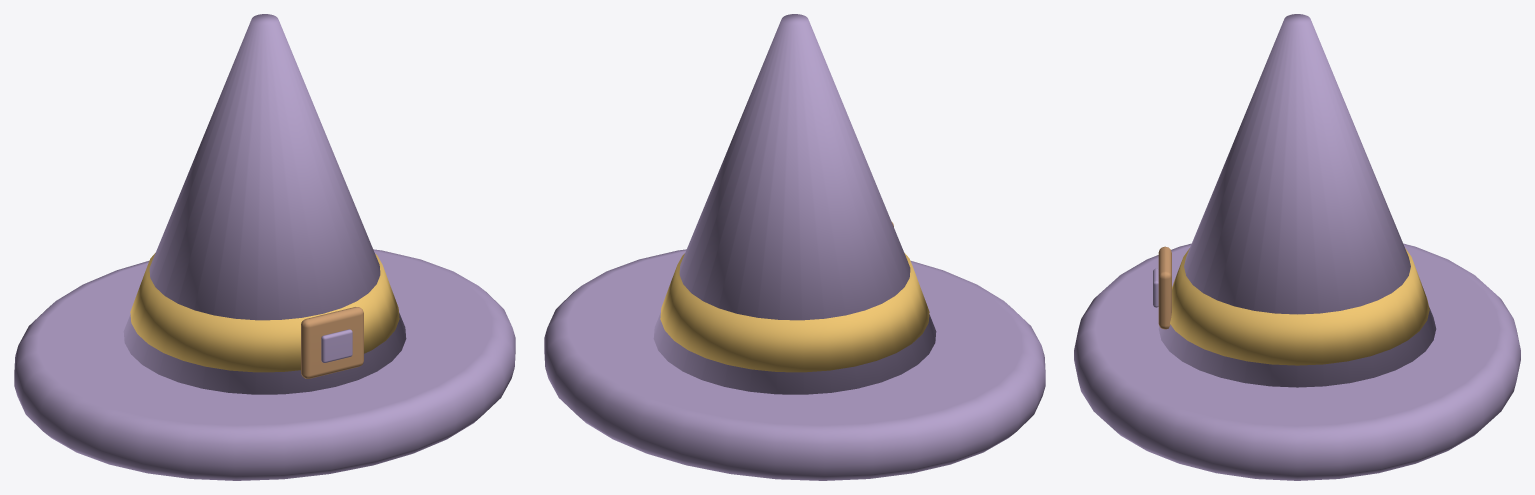
File: halloweenWitchHat.glb
3 views of the same model, side by side, from view 1: azimuth 30°, elevation 25°; view 2: azimuth 150°, elevation 25°; view 3: azimuth 270°, elevation 25° (orthographic).
Parts seen in each view (by area): view 1: Wide hat brim, Pointed hat, Gold hat band, Hat buckle, Buckle inset; view 2: Wide hat brim, Pointed hat, Gold hat band; view 3: Wide hat brim, Pointed hat, Gold hat band, Hat buckle.
Boxes of the visible parts, x1,y1,x2,y2 form: Wide hat brim: (14,249,515,480); Pointed hat: (123,14,406,394); Gold hat band: (130,253,399,372); Hat buckle: (301,307,363,378); Buckle inset: (321,329,352,362); Wide hat brim: (544,249,1045,480); Pointed hat: (653,14,936,394); Gold hat band: (660,253,929,372); Wide hat brim: (1074,243,1520,480); Pointed hat: (1158,14,1436,387); Gold hat band: (1170,248,1429,365); Hat buckle: (1158,246,1171,329).
Bounding box in the file's own units: 0.96 × 0.755 × 0.8448.
